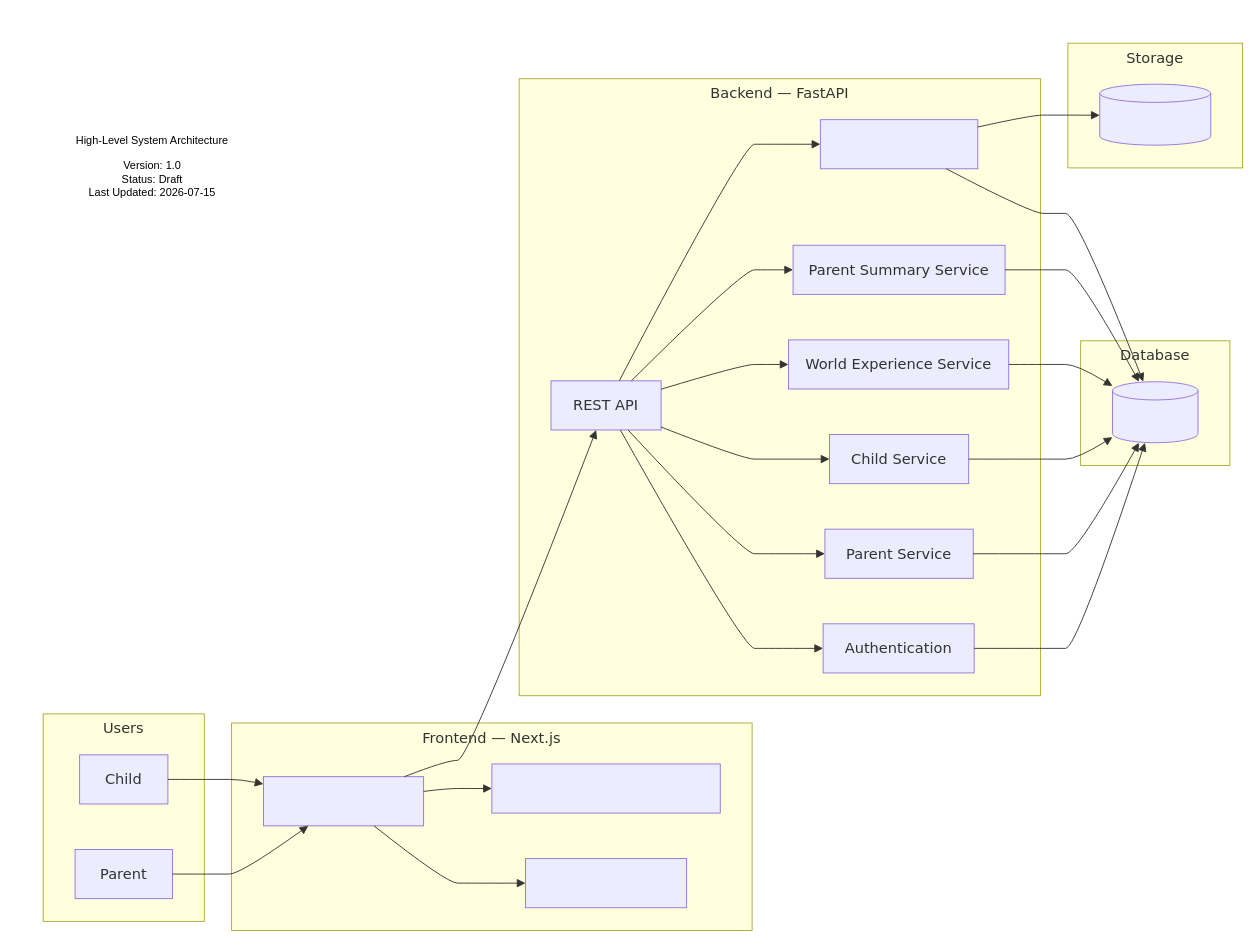
The diagram is 1259 pixels wide and 946 high, and some of its shapes have lost their labels. The centre of each missing label's shape, as x and y in pixels:
"Child Experience Interface" goes at point (605, 788).
"Memory Service" goes at point (898, 144).
"Object Storage" goes at point (1155, 114).
"Parent Interface" goes at point (606, 883).
"PostgreSQL" goes at point (1155, 412).
"Web Application" goes at point (343, 801).
